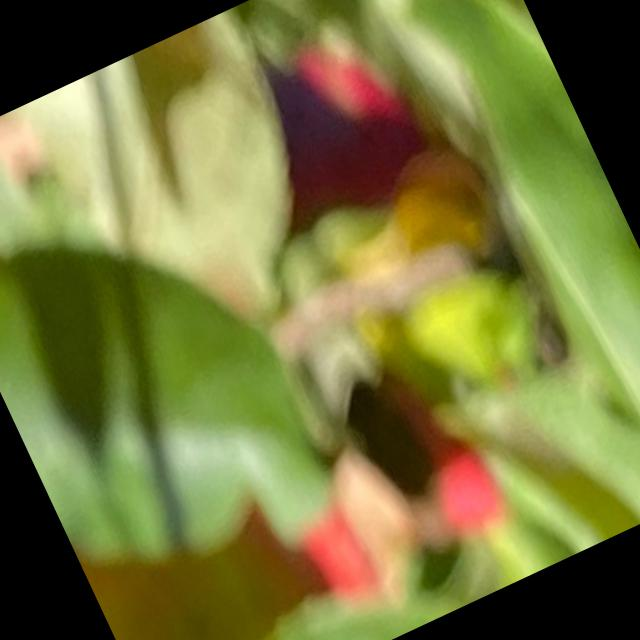Apples: (207, 328, 514, 624), (216, 19, 444, 242)
